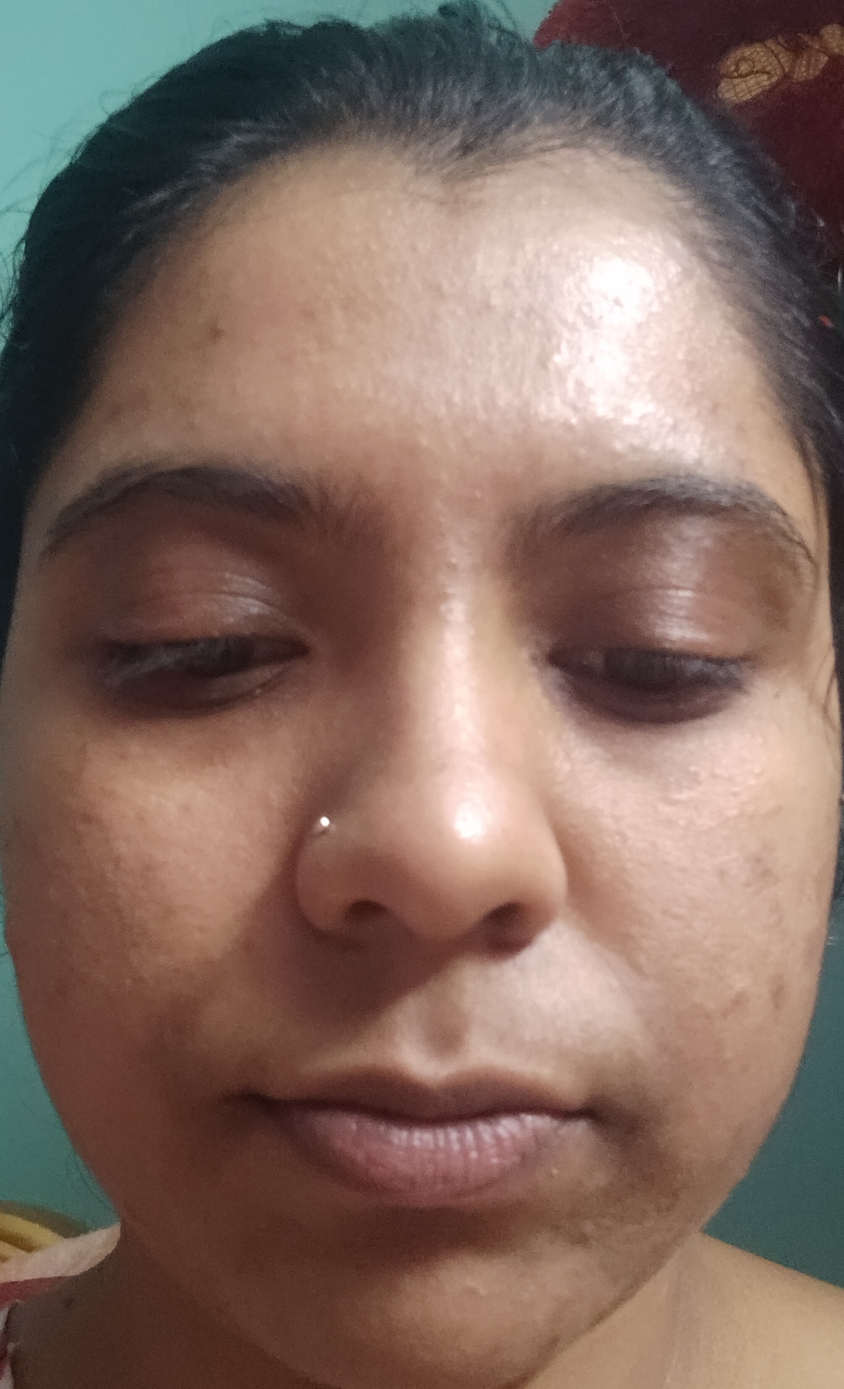closed_comedone: (705, 953, 765, 1020), (407, 426, 467, 479), (93, 766, 144, 818), (481, 277, 506, 330)
